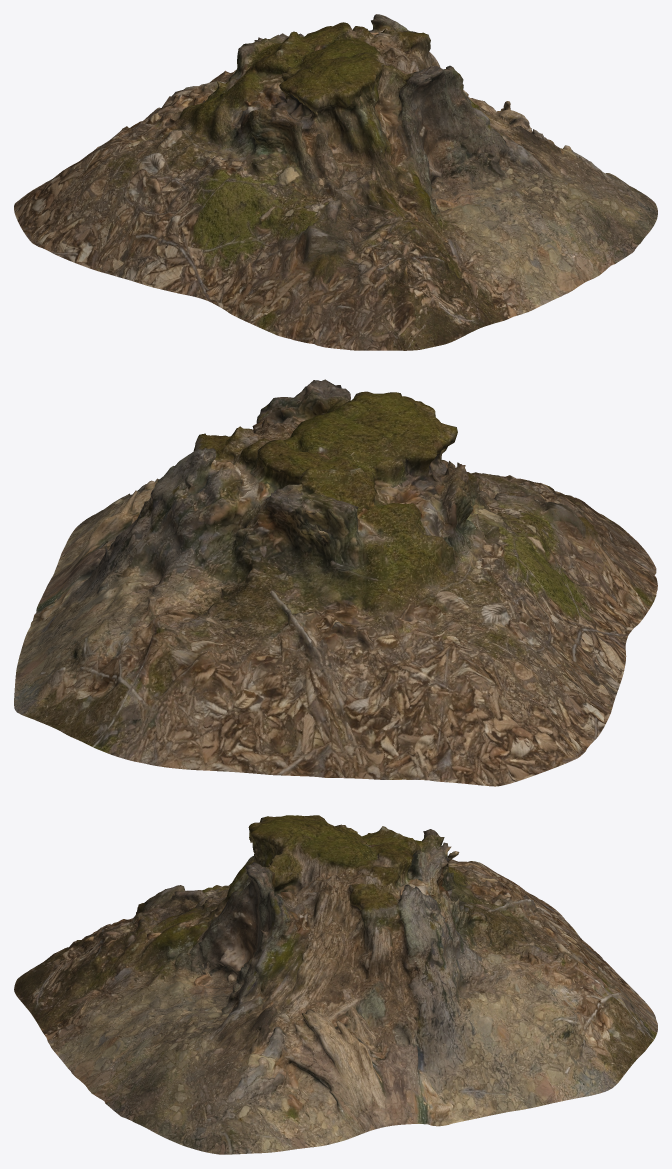
Rendered from SM_PH_tree_stump_01.fbx.
3 views of the same model, one above another, from view 1: azimuth 30°, elevation 25°; view 2: azimuth 150°, elevation 25°; view 3: azimuth 270°, elevation 25° (orthographic). The views are drawn at different scales.
Parts seen in each view (by area): view 1: SM_PH_tree_stump_01; view 2: SM_PH_tree_stump_01; view 3: SM_PH_tree_stump_01.
Part boxes in pixels (x1,y1,x2,y2): SM_PH_tree_stump_01: (14,14,657,350); SM_PH_tree_stump_01: (14,379,657,786); SM_PH_tree_stump_01: (14,815,657,1154).
Bounding box in the file's own units: 1.67 × 1.73 × 0.5727.
Materials: 1 (1 with a texture image).
